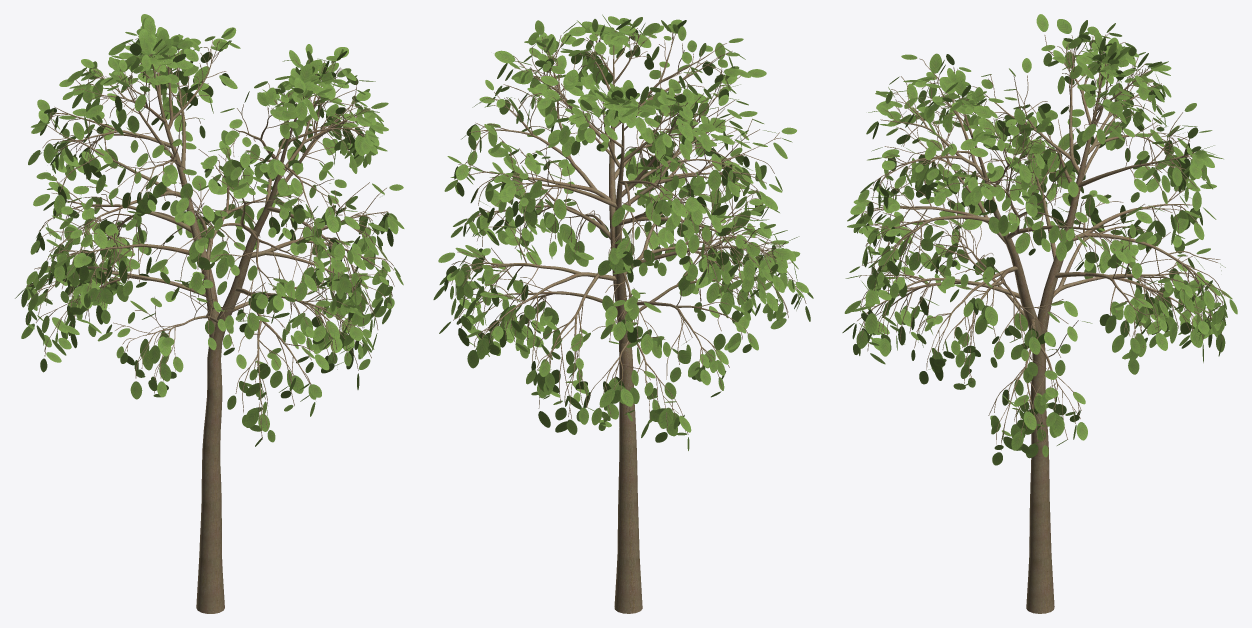
The model's file is tree.glb.
The picture shows the model from 3 angles, left to right: view 1: azimuth 30°, elevation 25°; view 2: azimuth 150°, elevation 25°; view 3: azimuth 270°, elevation 25°; orthographic projection.
Visible parts, largest first — view 1: leaves, tree; view 2: leaves, tree; view 3: leaves, tree.
Part boxes in pixels (<box>): leaves: <box>15,14,404,446</box>; tree: <box>26,36,394,613</box>; leaves: <box>433,14,813,450</box>; tree: <box>448,25,806,613</box>; leaves: <box>842,14,1237,465</box>; tree: <box>857,32,1228,613</box>.
Bounding box in the file's own units: 2.89 × 4.53 × 2.93.
2 materials, 2 textured.
